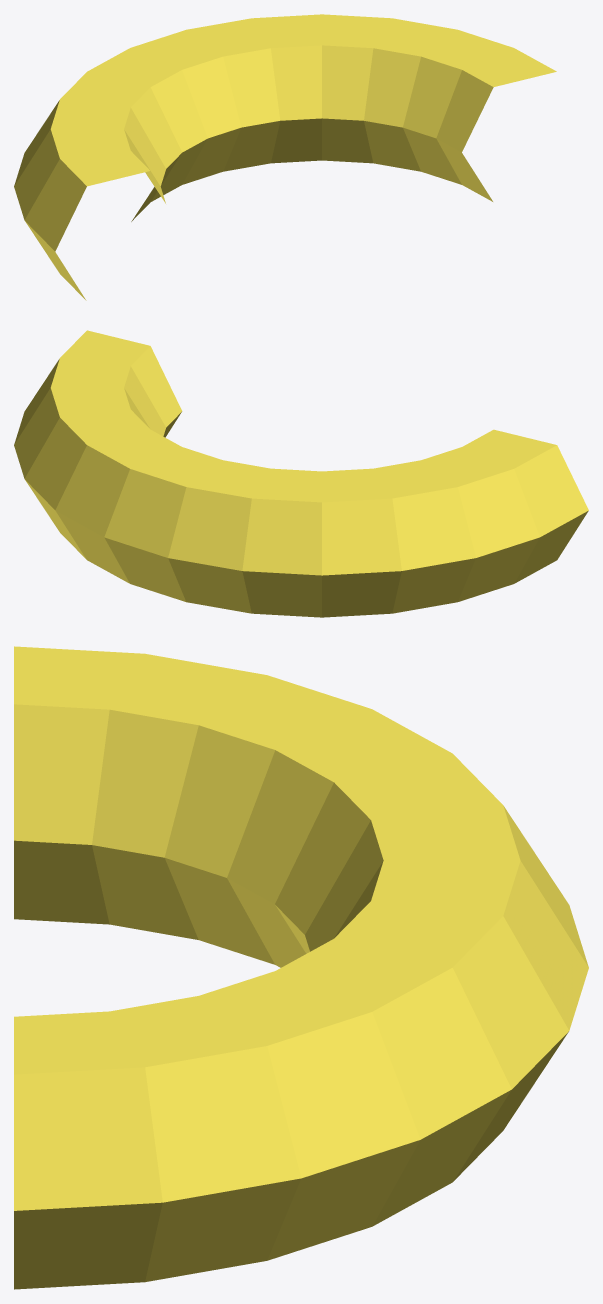
The model's file is banana.glb.
3 renders of one model, top to bottom at view 1: azimuth 30°, elevation 25°; view 2: azimuth 150°, elevation 25°; view 3: azimuth 270°, elevation 25°, orthographic. The views are drawn at different scales.
Visible parts, largest first — view 1: item; view 2: item; view 3: item.
Part boxes in pixels (<box>): item: <box>14,14,556,300</box>; item: <box>14,330,588,617</box>; item: <box>14,646,588,1289</box>.
Size of the model in its own units: 2.1 by 0.433 by 1.05.
